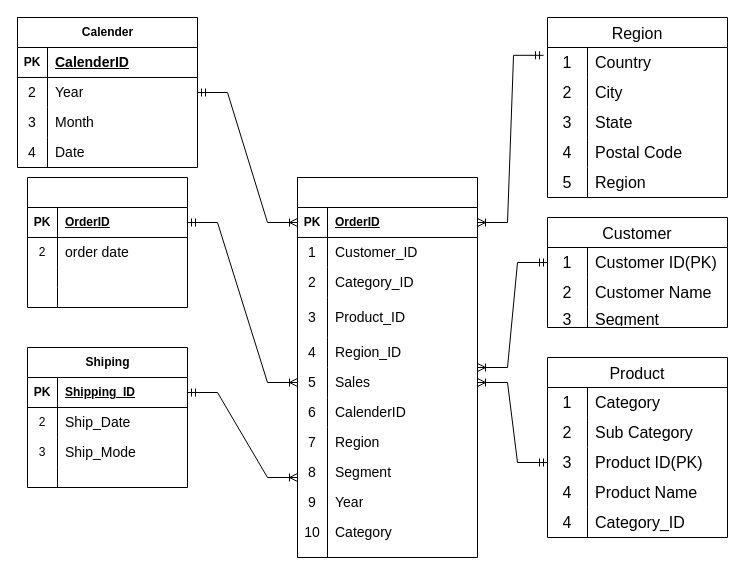
This 745x575 diagram has some shape labels left out. The shapes that lost their labels are listed below. From the top down, each one's box as (x1, y1, x2, y2) in pixels, then its label:
(26, 176, 188, 308): Orders
(296, 176, 478, 558): Sales_fact_table
